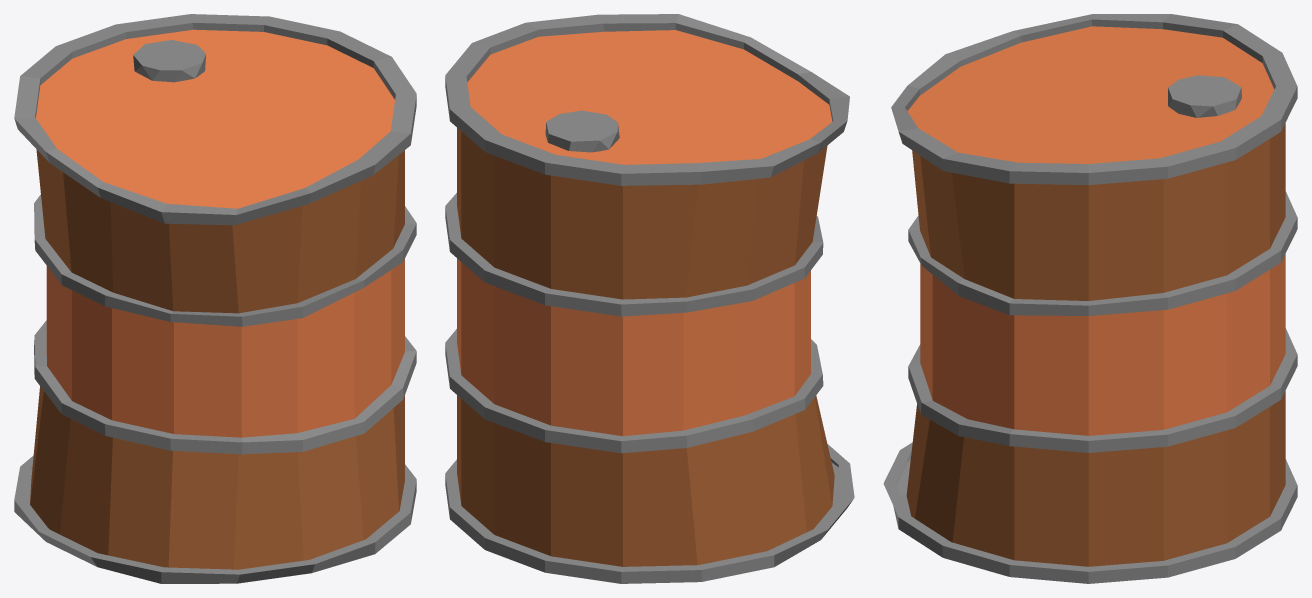
Rendered from Barrel_3_2.fbx.
3 renders of one model, left to right at view 1: azimuth 30°, elevation 25°; view 2: azimuth 150°, elevation 25°; view 3: azimuth 270°, elevation 25°, orthographic. The views are drawn at different scales.
Visible parts, largest first — view 1: Barrel_3_2; view 2: Barrel_3_2; view 3: Barrel_3_2.
Boxes of the visible parts, x1,y1,x2,y2 form: Barrel_3_2: (14, 14, 416, 583); Barrel_3_2: (445, 14, 854, 583); Barrel_3_2: (883, 14, 1297, 583).
Bounding box in the file's own units: 78.54 × 86.45 × 78.54.
